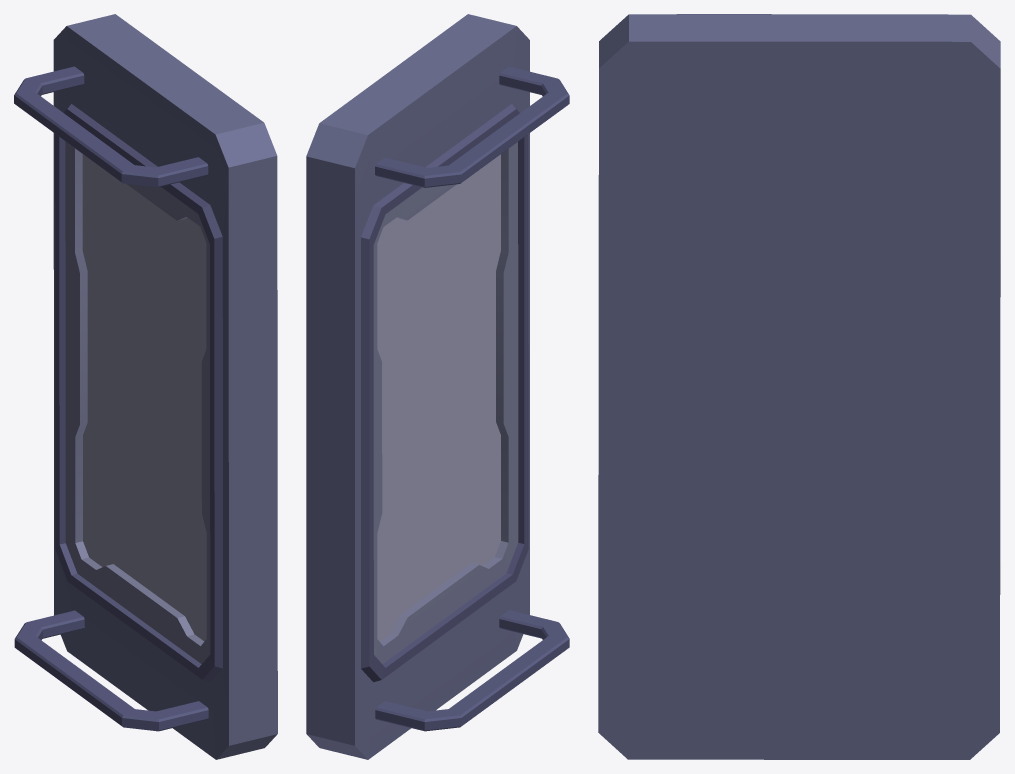
The model's file is Button1.fbx.
The picture shows the model from 3 angles, left to right: view 1: azimuth 30°, elevation 25°; view 2: azimuth 150°, elevation 25°; view 3: azimuth 270°, elevation 25°; orthographic projection. The views are drawn at different scales.
Visible parts, largest first — view 1: polySurface132; view 2: polySurface132; view 3: polySurface132.
Part boxes in pixels (left/top/right/bottom): polySurface132: left=14, top=14, right=277, bottom=759; polySurface132: left=306, top=14, right=569, bottom=759; polySurface132: left=598, top=14, right=1000, bottom=759.
Bounding box in the file's own units: 0.0663 × 0.3238 × 0.1644.
